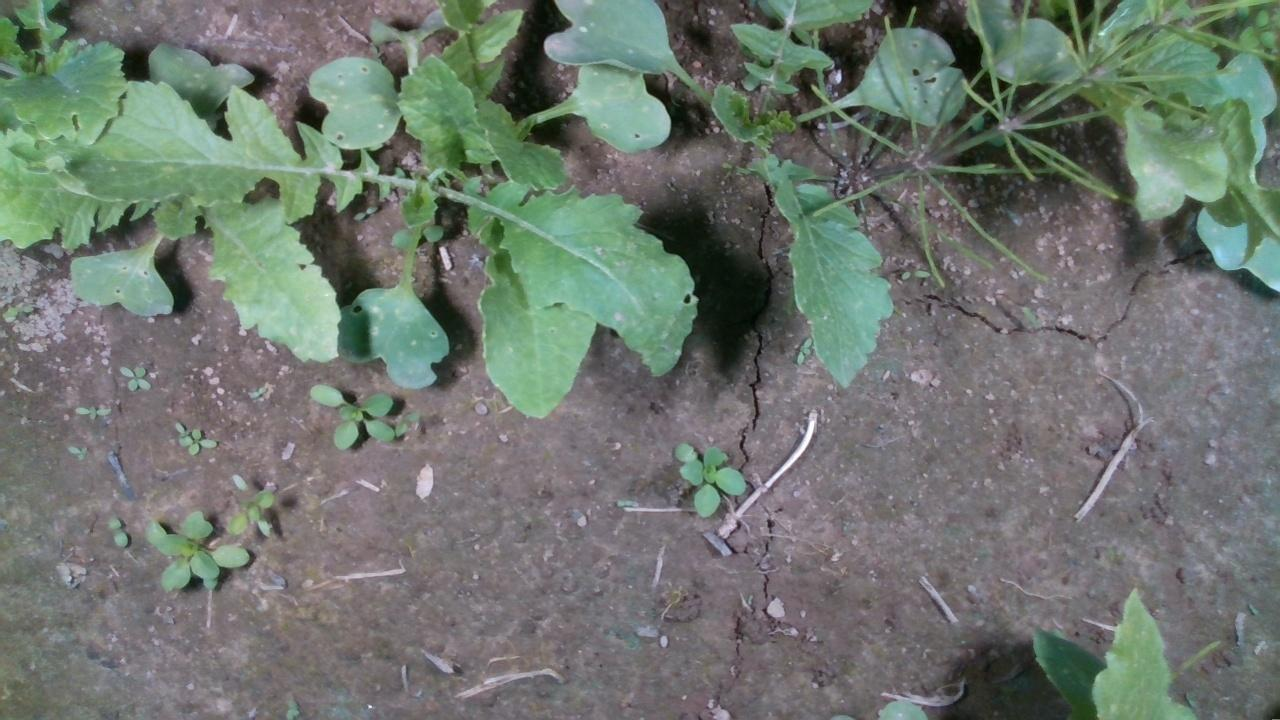weed: (117, 364, 151, 391), (105, 514, 128, 548), (71, 402, 114, 419), (65, 442, 91, 461)
